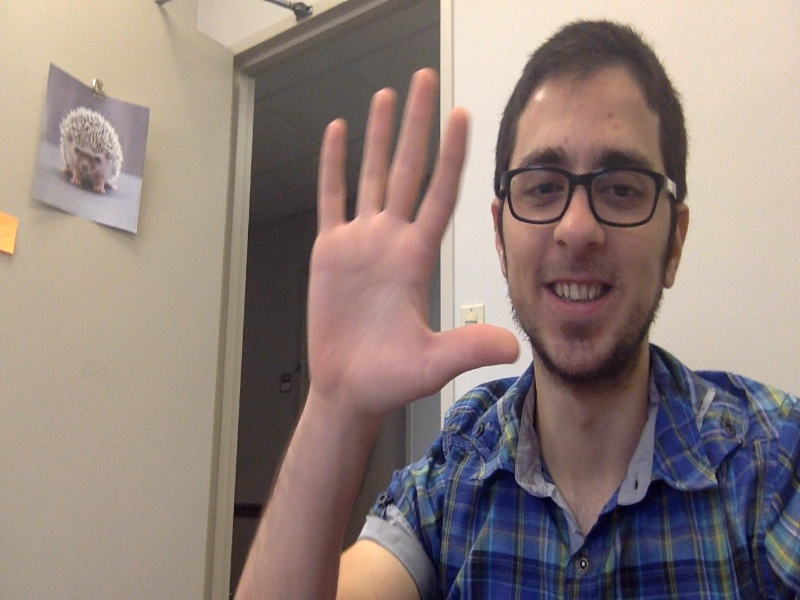5-hand: (304, 67, 520, 406)
